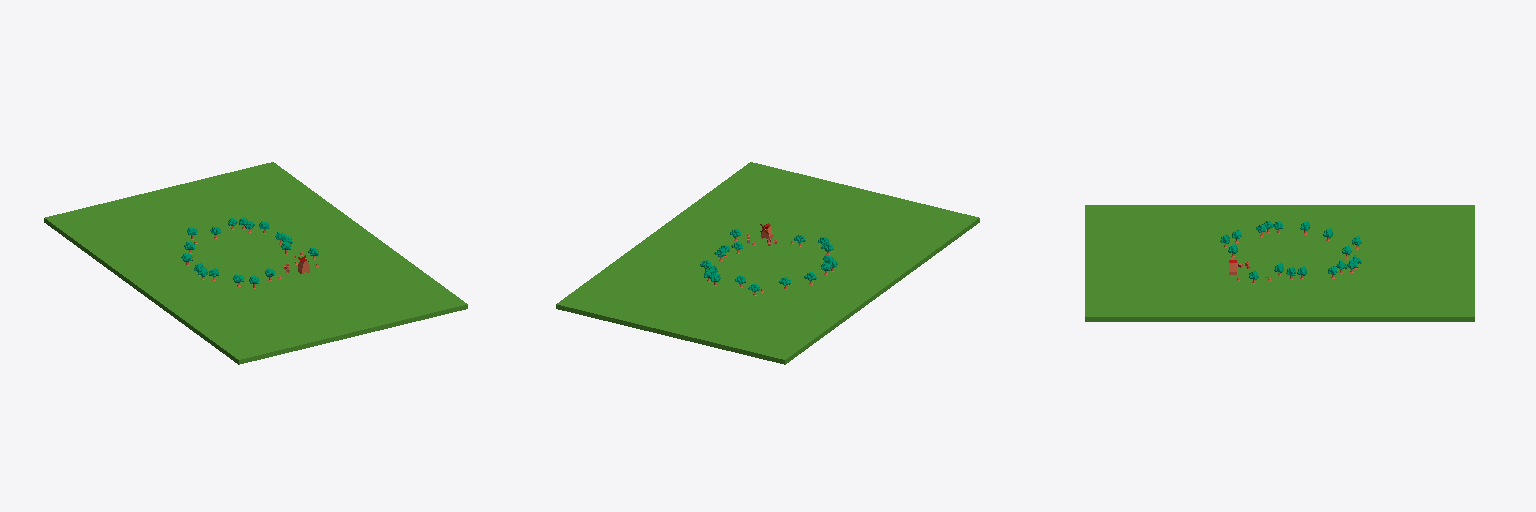
File: glades2.obj
3 renders of one model, left to right at view 1: azimuth 30°, elevation 25°; view 2: azimuth 150°, elevation 25°; view 3: azimuth 270°, elevation 25°, orthographic.
Visible parts, largest first — view 1: mergedBlocks; view 2: mergedBlocks; view 3: mergedBlocks.
Boxes of the visible parts, <box> form: mergedBlocks: <box>44,162,467,364</box>; mergedBlocks: <box>556,162,979,364</box>; mergedBlocks: <box>1085,205,1474,321</box>.
Size of the model in its own units: 51 by 4.13 by 75.